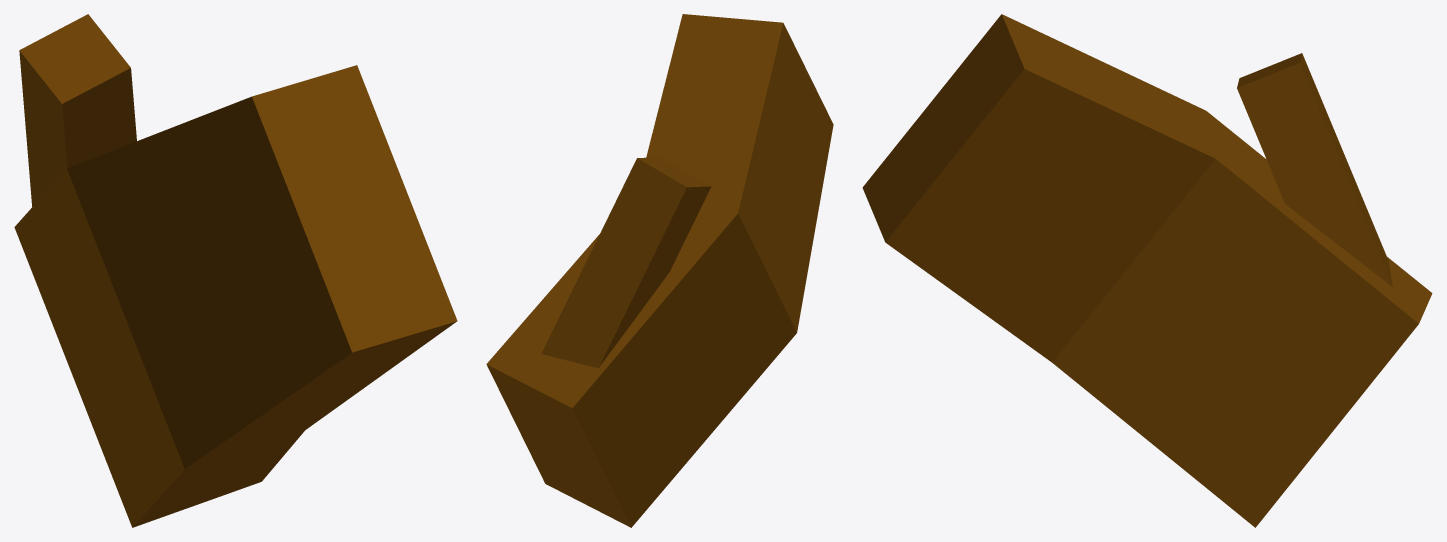
3 views of the same model, side by side, from view 1: azimuth 30°, elevation 25°; view 2: azimuth 150°, elevation 25°; view 3: azimuth 270°, elevation 25° (orthographic). The views are drawn at different scales.
Visible parts, largest first — view 1: 左5; view 2: 左5; view 3: 左5.
Part boxes in pixels (bbox=[...]): 左5: bbox=[14, 14, 457, 527]; 左5: bbox=[486, 14, 833, 527]; 左5: bbox=[862, 14, 1432, 527].
Bounding box in the file's own units: 8.29 × 19.7 × 21.8.
